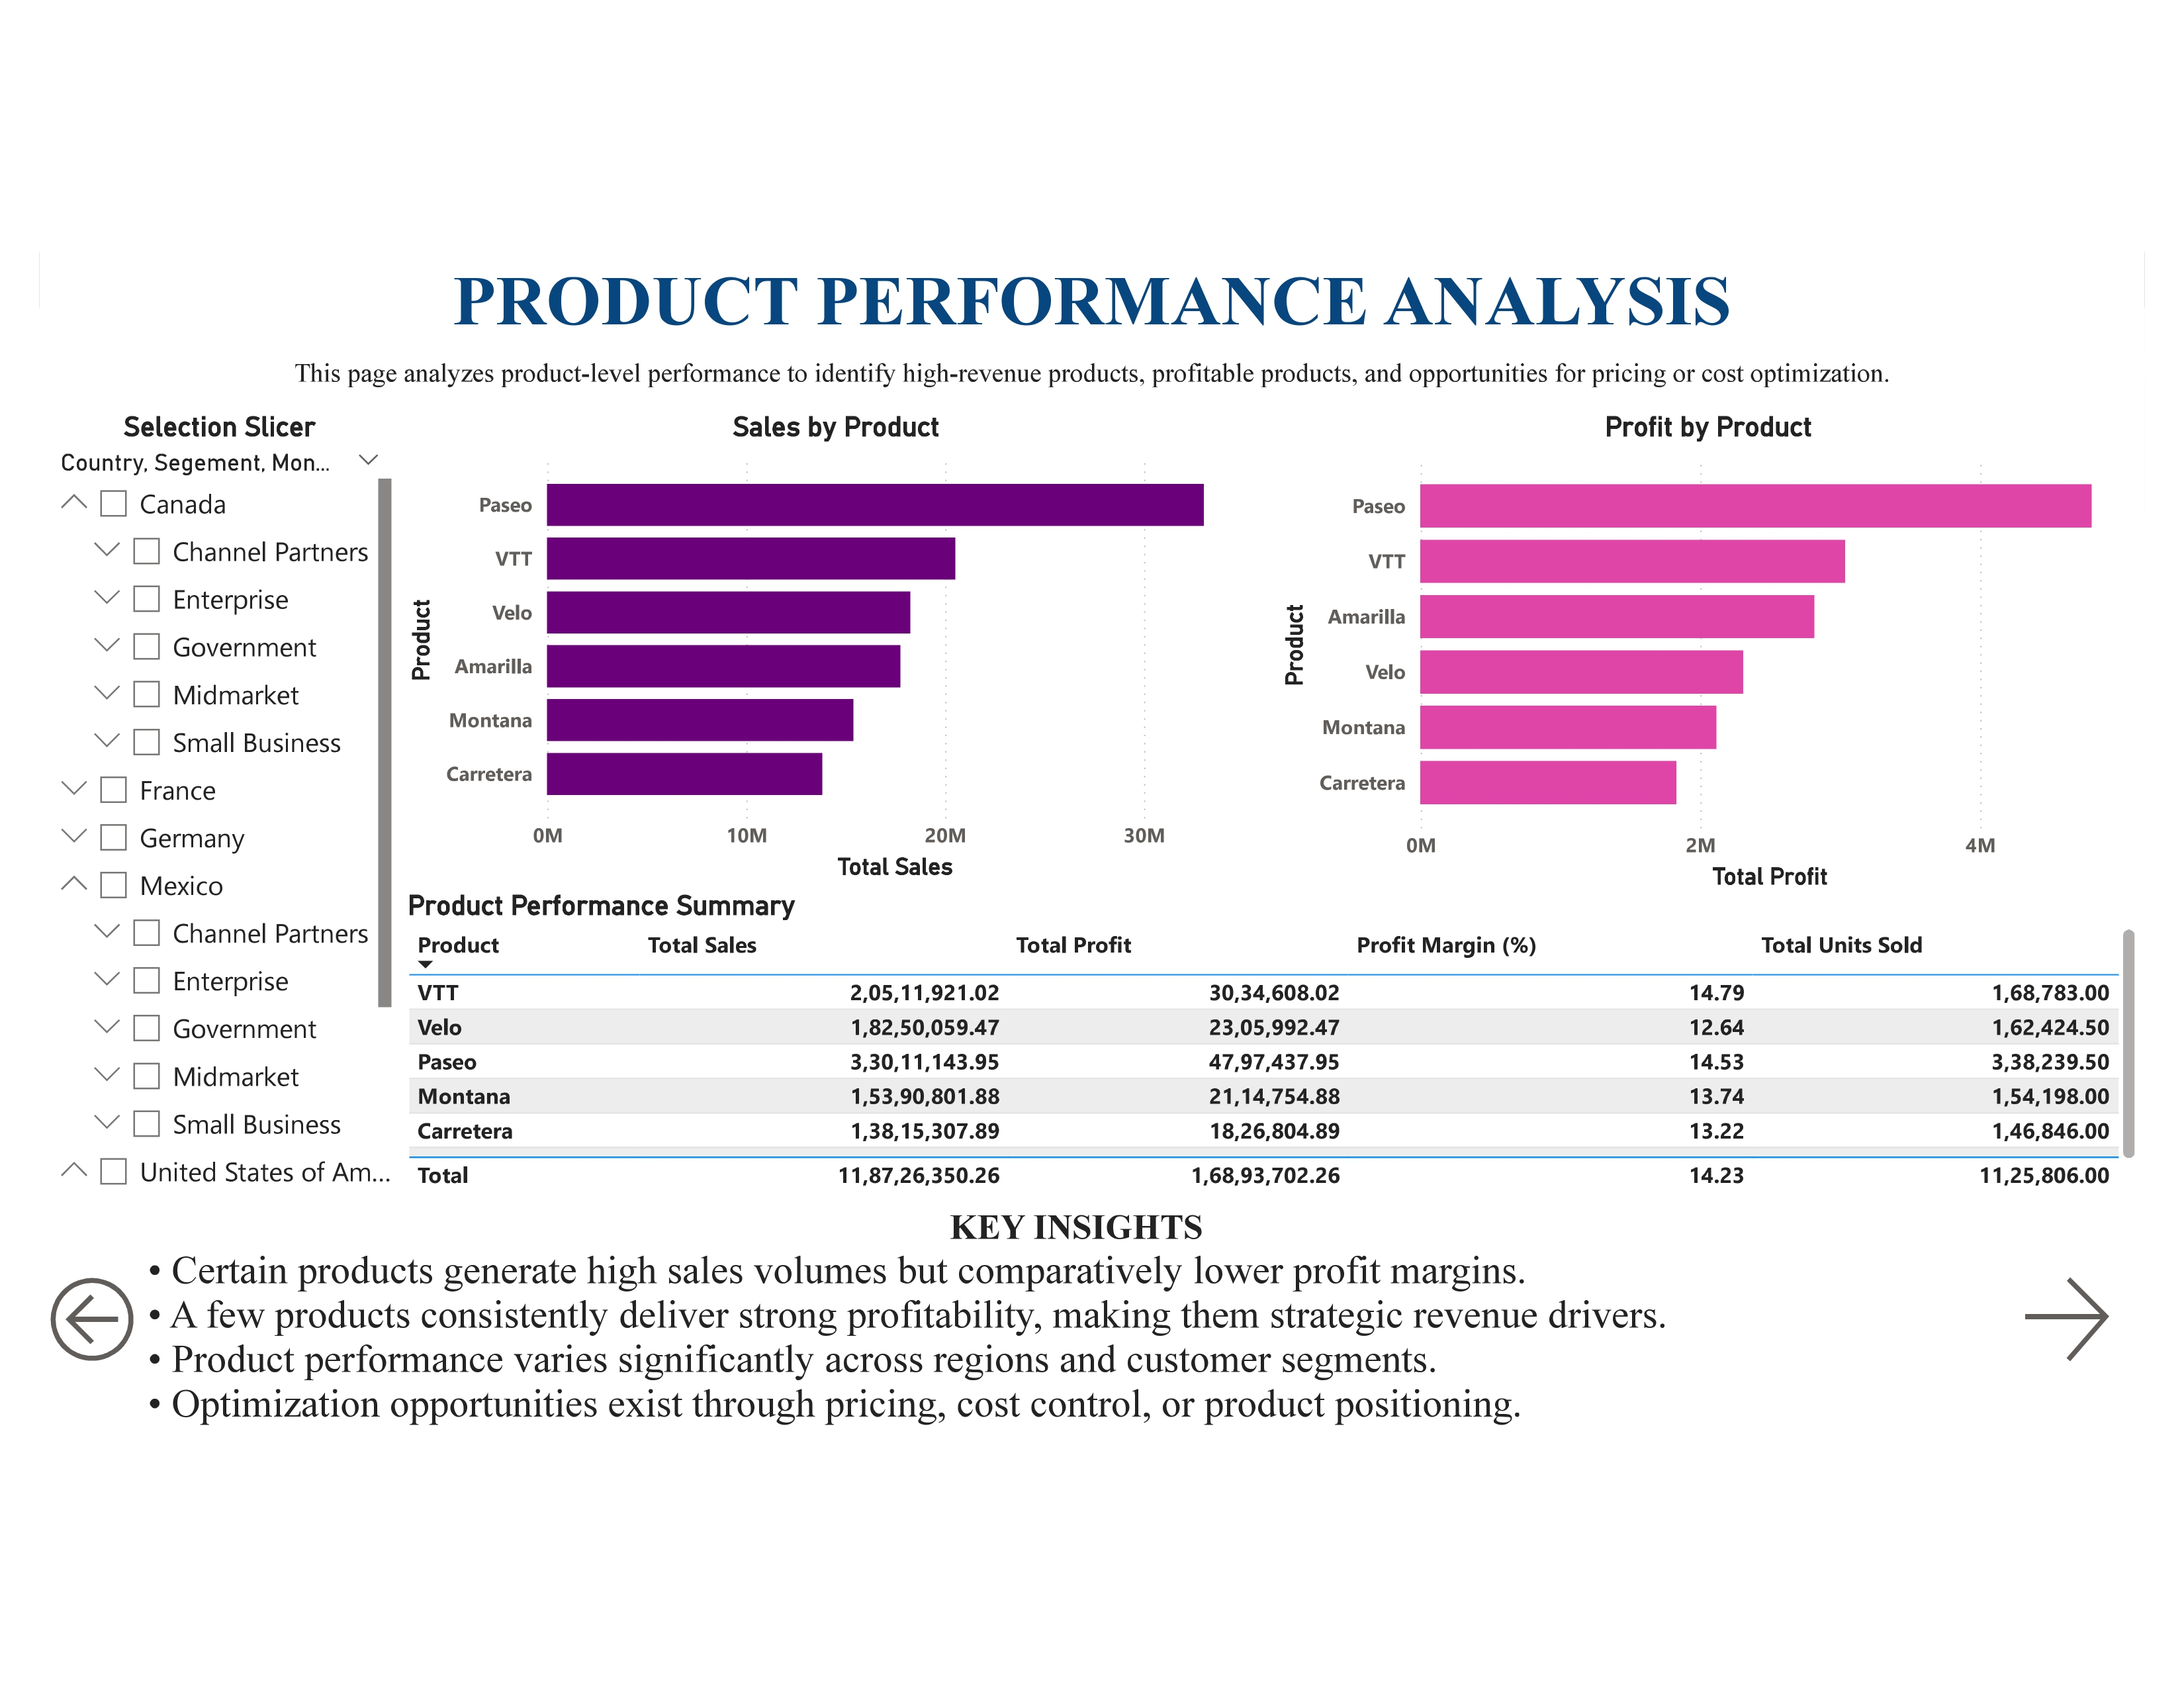

The page's visual inventory and layout, read from the dashboard file:
{"tool":"powerbi","page":{"name":"Product Performance Analysis","canvas":[1280,720],"ordinal":1},"visuals":[{"type":"actionButton","box":[1200.4,617.5,79.6,63.1],"z":0},{"type":"actionButton","box":[0,617.5,98.8,63.1],"z":1000},{"type":"textbox","box":[61.4,575.7,1138.6,144.3],"z":2000},{"type":"textbox","box":[0,0,1280,78.6],"z":3000},{"type":"textbox","box":[0,60,1280,35.7],"z":4000},{"type":"clusteredBarChart","title":"Sales by Product","fields":{"Category":["Sheet1.Product"],"Y":["Sheet1.Total Sales"]},"box":[218.6,95.7,531.4,291.4],"z":5000},{"type":"clusteredBarChart","title":"Profit by Product","fields":{"Category":["Sheet1.Product"],"Y":["Sheet1.Total Profit"]},"box":[750,95.7,530,297.1],"z":6000},{"type":"tableEx","title":"Product Performance Summary","fields":{"Values":["Sheet1.Product","Sheet1.Total Sales","Sheet1.Total Profit","Sheet1.Profit Margin (%)","Sheet1.Total Units Sold"]},"box":[218.6,387.1,1061.4,188.6],"z":7000},{"type":"slicer","title":"Selection Slicer","fields":{"Values":["Sheet1.Country","Sheet1.Segment","Sheet1.Date"]},"box":[0,95.7,218.6,480],"z":8000}]}

Visuals, with their boxes on the page's 1280x720 design canvas (x1, y1, x2, y2). These are canvas units, not pixel positions in the 2184x1688 screenshot, which may show the page scaled, cropped or inside an application window:
actionButton: rect(1200, 618, 1280, 681)
actionButton: rect(0, 618, 99, 681)
textbox: rect(61, 576, 1200, 720)
textbox: rect(0, 0, 1280, 79)
textbox: rect(0, 60, 1280, 96)
"Sales by Product" clusteredBarChart: rect(219, 96, 750, 387)
"Profit by Product" clusteredBarChart: rect(750, 96, 1280, 393)
"Product Performance Summary" tableEx: rect(219, 387, 1280, 576)
"Selection Slicer" slicer: rect(0, 96, 219, 576)
